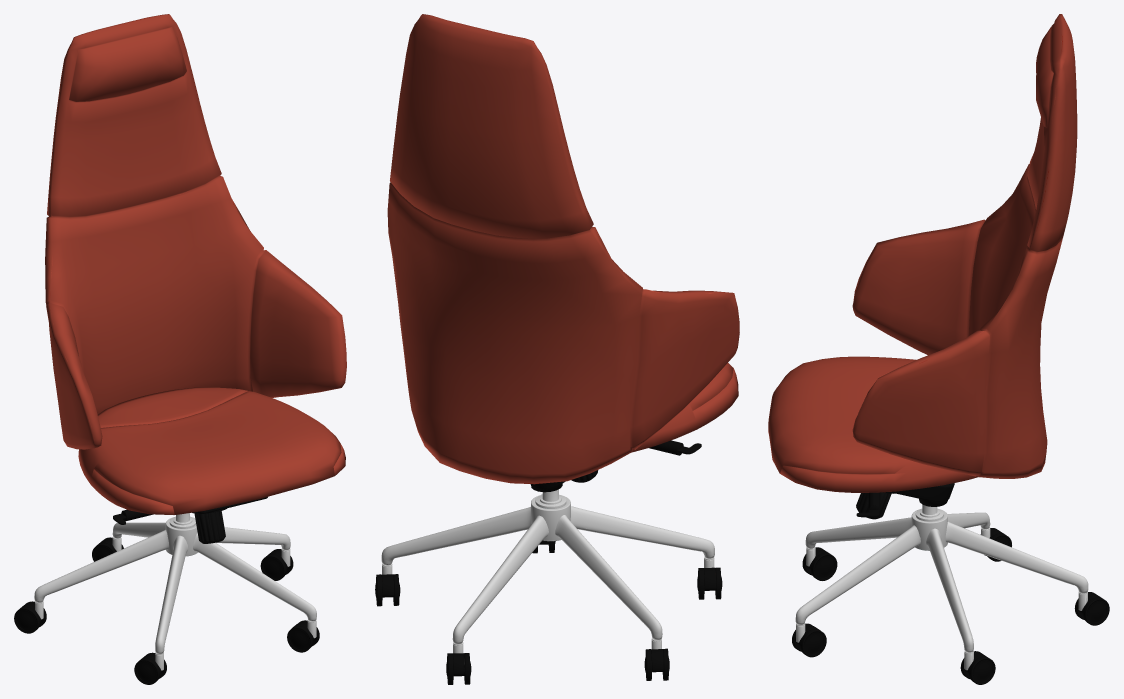
3 renders of one model, left to right at view 1: azimuth 30°, elevation 25°; view 2: azimuth 150°, elevation 25°; view 3: azimuth 270°, elevation 25°, orthographic. The views are drawn at different scales.
Visible parts, largest first — view 1: Chair 20; view 2: Chair 20; view 3: Chair 20.
Part boxes in pixels (<box>): Chair 20: <box>14,14,346,684</box>; Chair 20: <box>375,14,739,684</box>; Chair 20: <box>768,14,1109,684</box>.
Size of the model in its own units: 0.6613 by 1.3 by 0.6867.
Materials: 1 (1 with a texture image).
